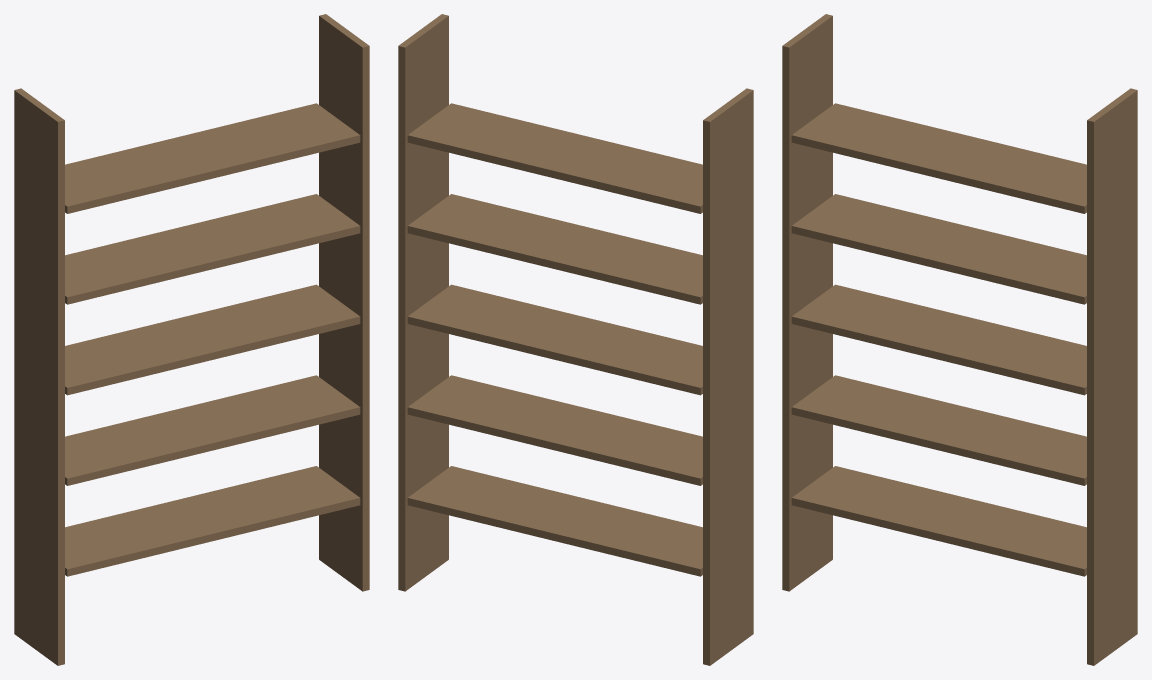
Rendered from bookshelf_05.glb.
3 renders of one model, left to right at view 1: azimuth 30°, elevation 25°; view 2: azimuth 150°, elevation 25°; view 3: azimuth 330°, elevation 25°, orthographic.
Bounding box in the file's own units: 1.32 × 2.2 × 0.32.
